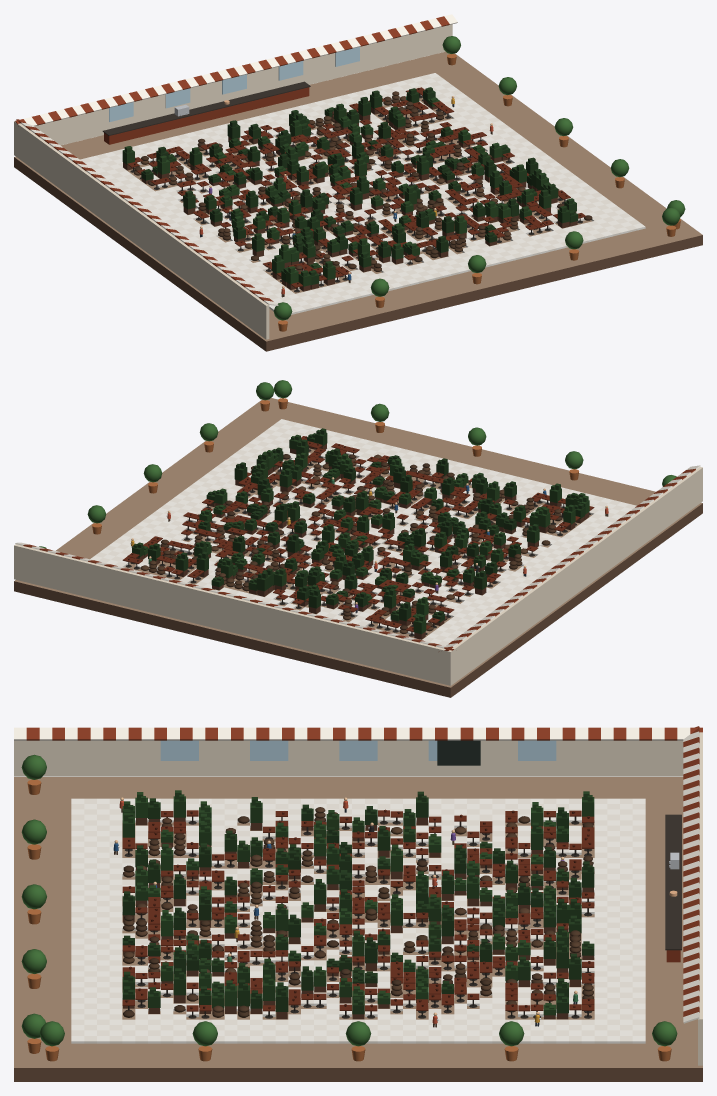
Rendered from demo.glb.
3 renders of one model, top to bottom at view 1: azimuth 30°, elevation 25°; view 2: azimuth 150°, elevation 25°; view 3: azimuth 270°, elevation 25°, orthographic. The views are drawn at different scales.
Bounding box in the file's own units: 0.32 × 0.0332 × 0.32.
